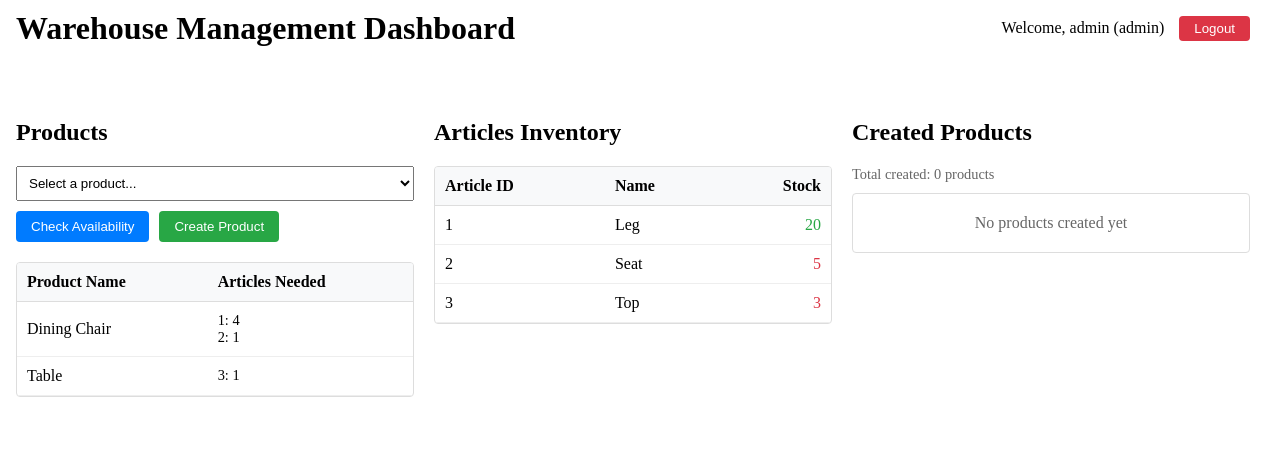
Test: Dashboard Component › shows error when checking availability fails
This screenshot has width=1267, height=472.
Select "Dining Chair" in the dropdown at (215, 183), box x1=16 y1=166 x2=414 y2=201
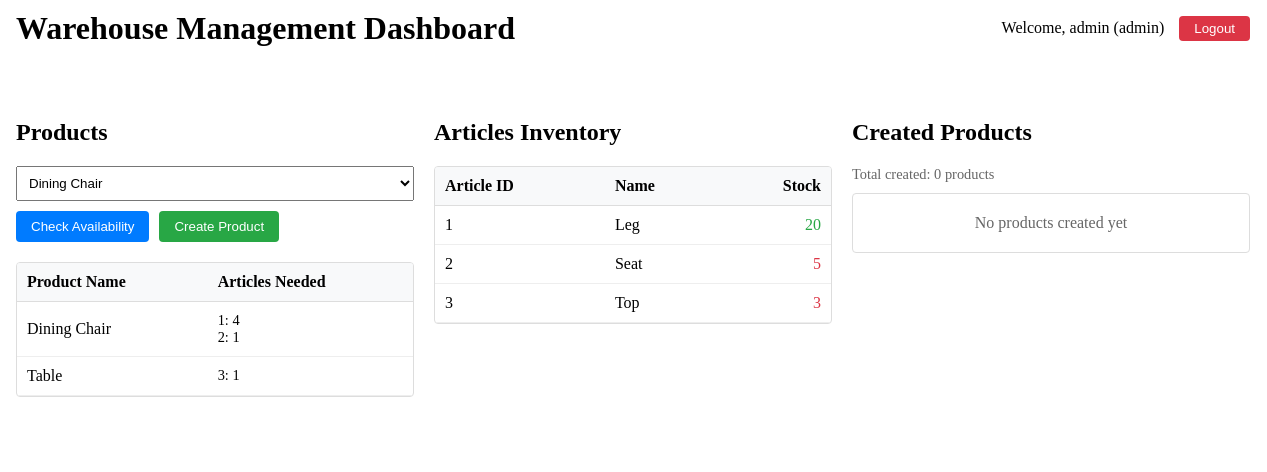
Click the button "Check Availability" at (83, 226), box x1=16 y1=211 x2=150 y2=242
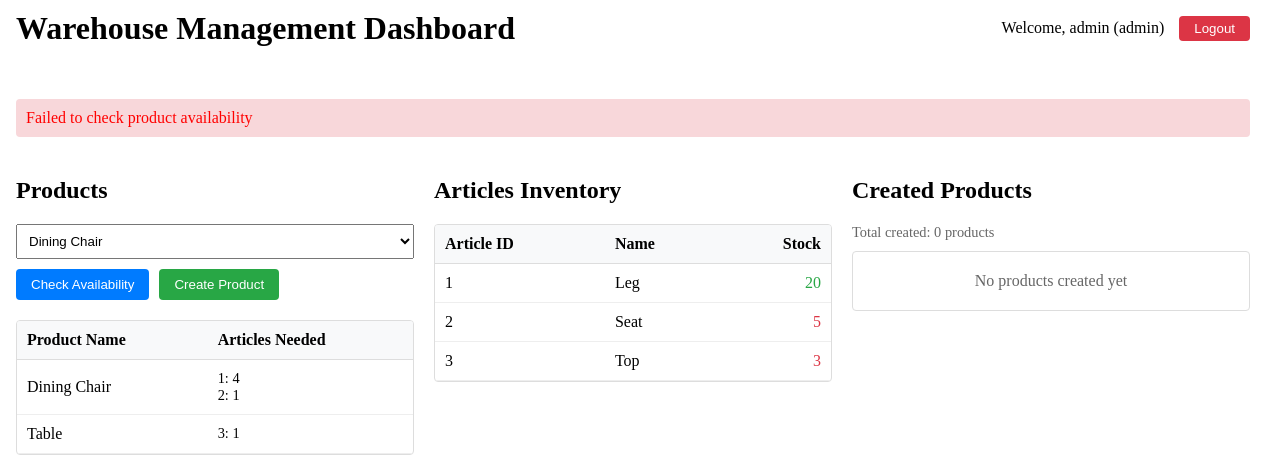
Expected: the text "Failed to check product availability" is shown, x1=16 y1=99 x2=1250 y2=137
